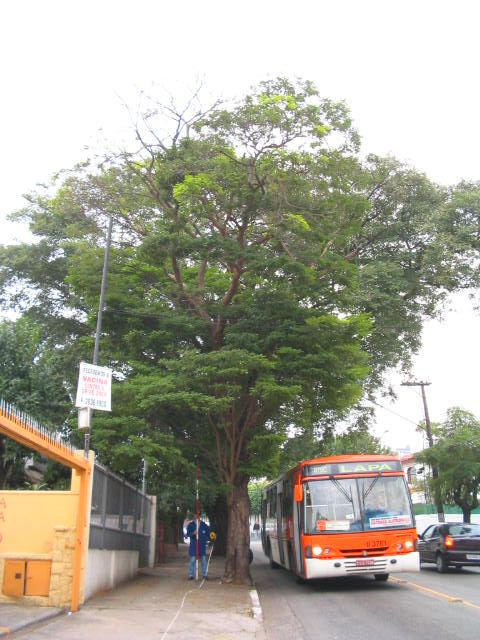crown: (5, 77, 478, 484)
stem: (212, 494, 264, 584)
stick: (187, 460, 206, 579)
tree: (3, 74, 479, 587)
